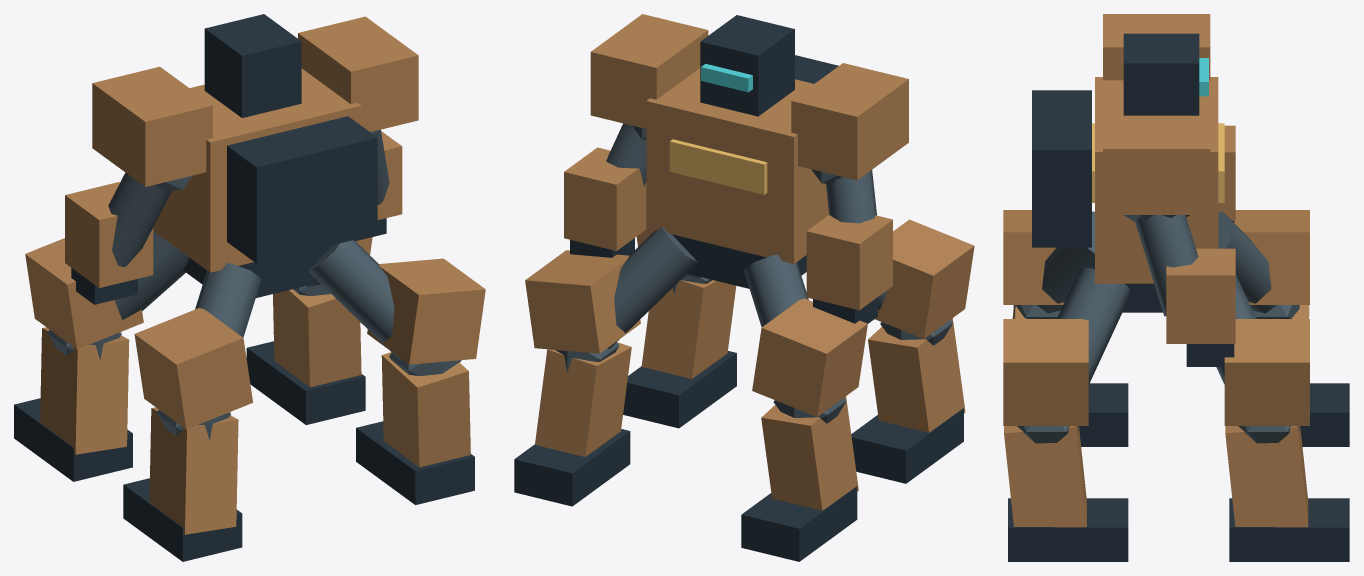
File: frame-lancaster.glb
3 renders of one model, left to right at view 1: azimuth 30°, elevation 25°; view 2: azimuth 150°, elevation 25°; view 3: azimuth 270°, elevation 25°, orthographic. The views are drawn at different scales.
Parts seen in each view (by area): view 1: frame-lancaster; view 2: frame-lancaster; view 3: frame-lancaster.
Part boxes in pixels (<box>): frame-lancaster: <box>14,14,485,561</box>; frame-lancaster: <box>514,14,974,561</box>; frame-lancaster: <box>1003,14,1349,561</box>.
Size of the model in its own units: 1.14 by 1.54 by 1.1.
